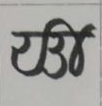i_matra: (56, 17, 84, 75)
